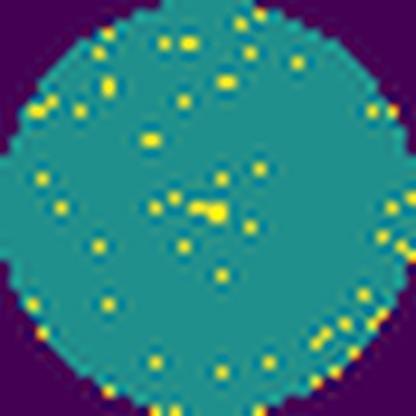Center: (186, 190, 230, 228)
